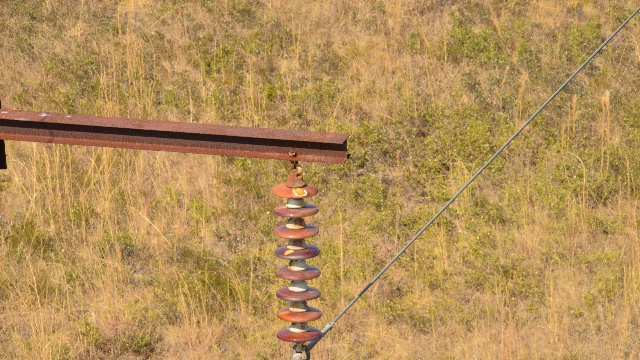insulator_unspecified: (270, 182, 321, 342)
pollution_flashover_local: (286, 184, 309, 196), (275, 203, 287, 210), (283, 249, 293, 256), (279, 310, 292, 314)
